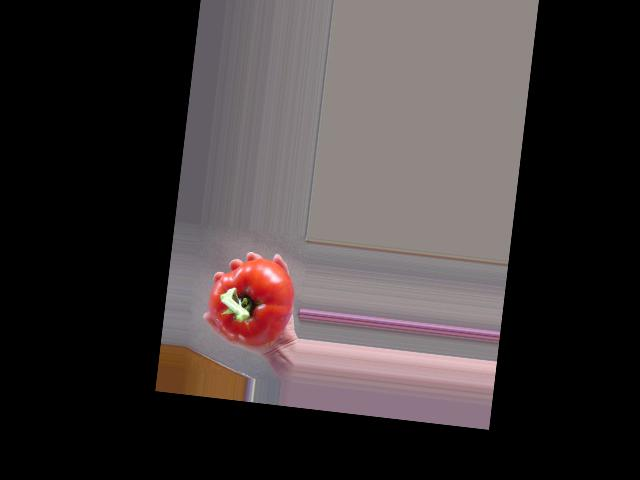tomato: (204, 253, 298, 349)
